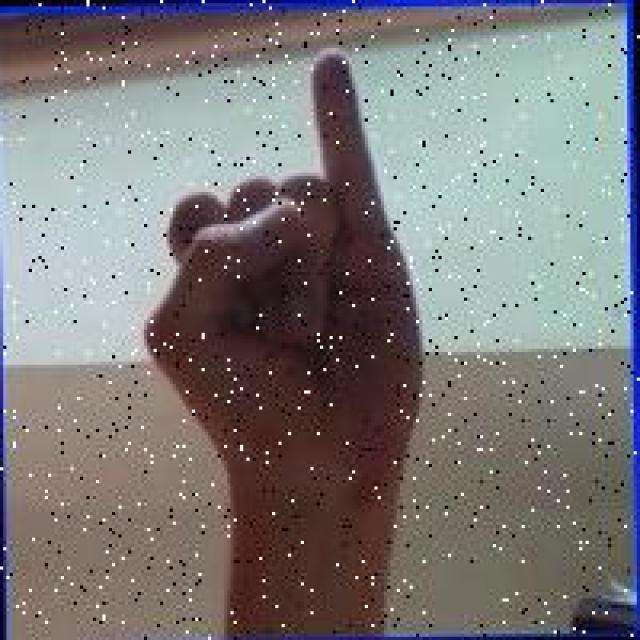I: (133, 48, 430, 547)
